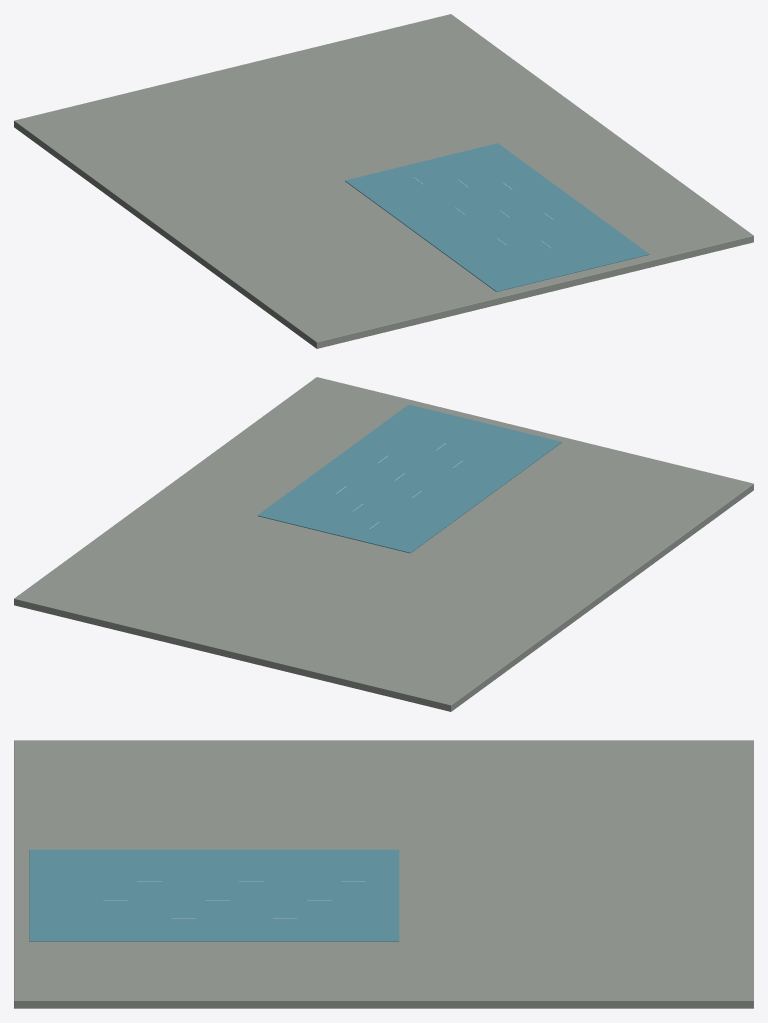
Rendered from hydroelectric-dam-infiltration-river-display-base-e147fd48__29377.glb.
3 renders of one model, top to bottom at view 1: azimuth 30°, elevation 25°; view 2: azimuth 150°, elevation 25°; view 3: azimuth 270°, elevation 25°, orthographic. The views are drawn at different scales.
Visible parts, largest first — view 1: river-display-base; view 2: river-display-base; view 3: river-display-base.
Boxes of the visible parts, x1,y1,x2,y2 form: river-display-base: (14,14,753,348); river-display-base: (14,377,753,711); river-display-base: (14,740,753,1008).
Bounding box in the file's own units: 20 × 0.3546 × 24.
